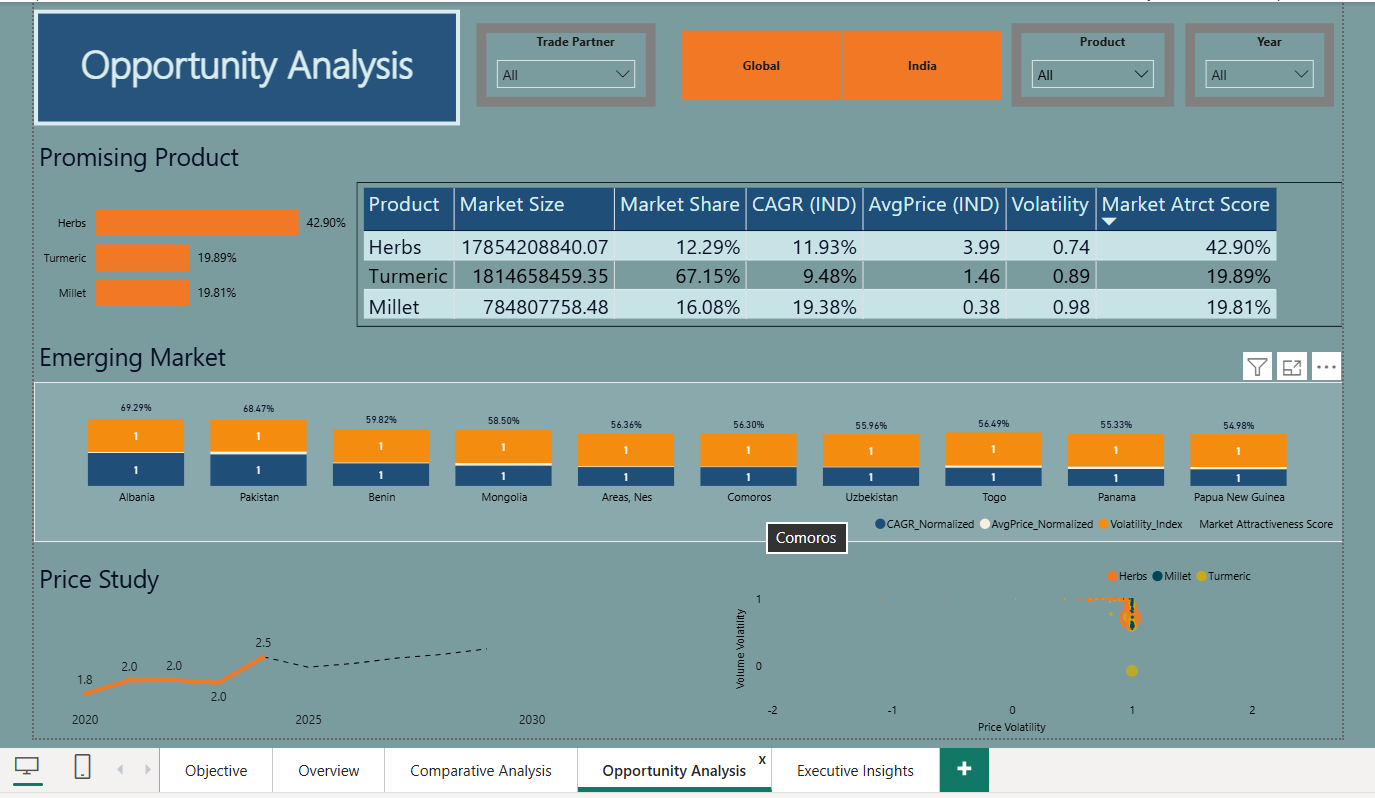

Layout of this report page (visuals, bound fields, positions):
{"tool":"powerbi","page":{"name":"Opportunity Analysis","canvas":[1280,720],"ordinal":3},"visuals":[{"type":"textbox","box":[0,7.3,417,113.7],"z":0},{"type":"slicer","title":"Product","fields":{"Values":["Trade_Master_PowerBI.product_name"]},"box":[956.3,20.8,159,81.9],"z":1000},{"type":"slicer","title":"Origin","fields":{"Values":["Trade_Master_PowerBI.origin"]},"box":[607.7,20.8,363.2,81.9],"z":2000},{"type":"slicer","title":"Trade Partner","fields":{"Values":["Trade_Master_PowerBI.partner_country"]},"box":[432.9,20.8,174.9,81.9],"z":3000},{"type":"barChart","title":"Promising Product","fields":{"Category":["Trade_Master_PowerBI.product_name"],"Y":["DAX - Potential_Market.Market Attractiveness Score"]},"box":[0,176.1,315.5,141.8],"z":4000},{"type":"tableEx","fields":{"Values":["Trade_Master_PowerBI.product_name","DAX - Potential_Market.Global Market Size","dax_measures.market_share","DAX - Potential_Market.CAGR_India","DAX - Potential_Market.Ind_AvgPrice","DAX - Potential_Market.Volatility_Index","DAX - Potential_Market.Market Attractiveness Score"]},"box":[315.2,176.1,964.8,141.8],"z":5000},{"type":"textbox","box":[0,129.6,1280.3,46.5],"z":6000},{"type":"textbox","box":[0,325.3,1280,46.5],"z":7000},{"type":"columnChart","title":"Emerging Markets","fields":{"Category":["Trade_Master_PowerBI.partner_country"],"Y":["DAX - Potential_Market.CAGR_Normalized","DAX - Potential_Market.AvgPrice_Normalized","DAX - Potential_Market.Volatility_Index","DAX - Potential_Market.Market Attractiveness Score"]},"box":[0,371.7,1280.3,156.5],"z":8000},{"type":"lineChart","fields":{"Y":["DAX - Potential_Market.Ind_AvgPrice"],"Category":["calendar.Year"]},"box":[31.8,574.7,473.2,145.5],"z":9000},{"type":"textbox","box":[0,542.9,588.2,46.5],"z":10000},{"type":"scatterChart","fields":{"X":["DAX - Potential_Market.Price_Volatility_Index"],"Y":["DAX - Potential_Market.Volume_Volatility_Index"],"Series":["Trade_Master_PowerBI.product_name"],"Category":["Trade_Master_PowerBI.partner_country"],"Size":["dax_measures.Indian_tradevalue(usd)"]},"box":[682.3,542.9,517.3,177.3],"z":11000},{"type":"slicer","title":"Year","fields":{"Values":["calendar.Year"]},"box":[1126.2,20.8,145.5,81.9],"z":12000}]}

Visuals, with their boxes on the page's 1280x720 design canvas (x1, y1, x2, y2). These are canvas units, not pixel positions in the 1375x798 screenshot, which may show the page scaled, cropped or inside an application window:
textbox: {"x1": 0, "y1": 7, "x2": 417, "y2": 121}
"Product" slicer: {"x1": 956, "y1": 21, "x2": 1115, "y2": 103}
"Origin" slicer: {"x1": 608, "y1": 21, "x2": 971, "y2": 103}
"Trade Partner" slicer: {"x1": 433, "y1": 21, "x2": 608, "y2": 103}
"Promising Product" barChart: {"x1": 0, "y1": 176, "x2": 316, "y2": 318}
tableEx - Trade_Master_PowerBI.product_name x DAX - Potential_Market.Global Market Size: {"x1": 315, "y1": 176, "x2": 1280, "y2": 318}
textbox: {"x1": 0, "y1": 130, "x2": 1280, "y2": 176}
textbox: {"x1": 0, "y1": 325, "x2": 1280, "y2": 372}
"Emerging Markets" columnChart: {"x1": 0, "y1": 372, "x2": 1280, "y2": 528}
lineChart - DAX - Potential_Market.Ind_AvgPrice x calendar.Year: {"x1": 32, "y1": 575, "x2": 505, "y2": 720}
textbox: {"x1": 0, "y1": 543, "x2": 588, "y2": 589}
scatterChart - DAX - Potential_Market.Price_Volatility_Index x DAX - Potential_Market.Volume_Volatility_Index: {"x1": 682, "y1": 543, "x2": 1200, "y2": 720}
"Year" slicer: {"x1": 1126, "y1": 21, "x2": 1272, "y2": 103}
